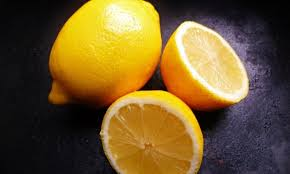Lemon: (39, 2, 168, 103)
